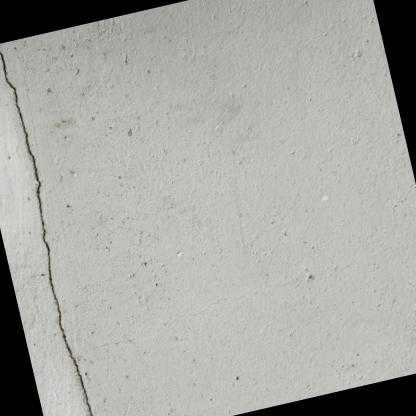crack: (0, 50, 93, 416)
